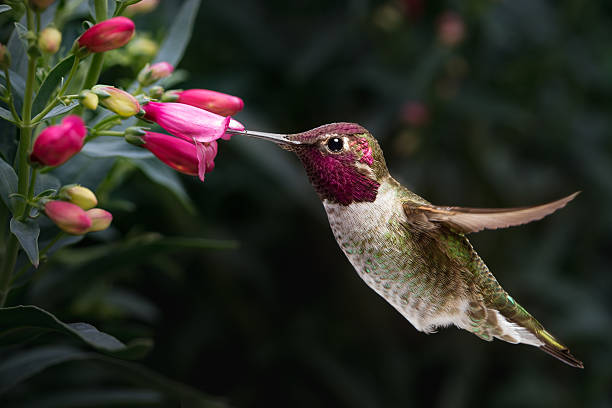Bird: (225, 115, 587, 370)
